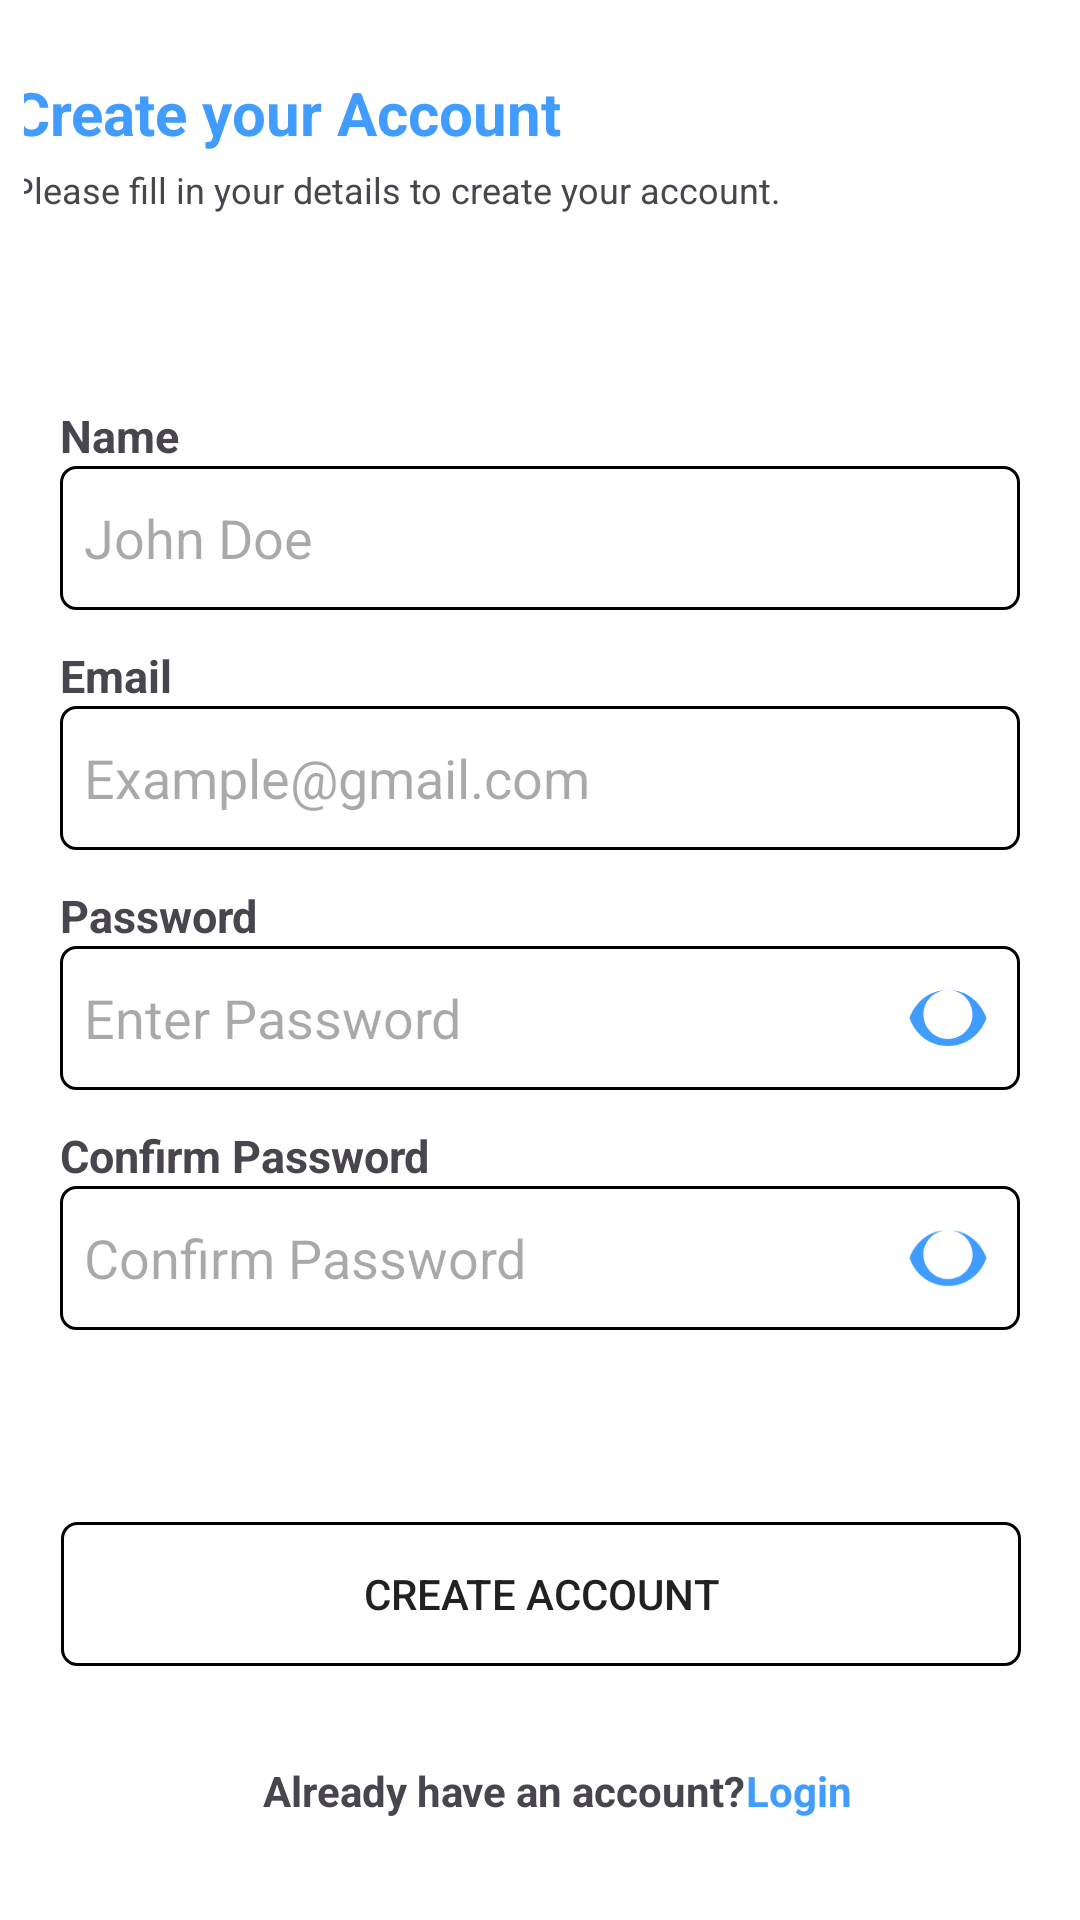

Icons on this 1080 x 1920 Android screen, each with the point to tap as (x,y):
Toggle password visibility: (948,1018)
